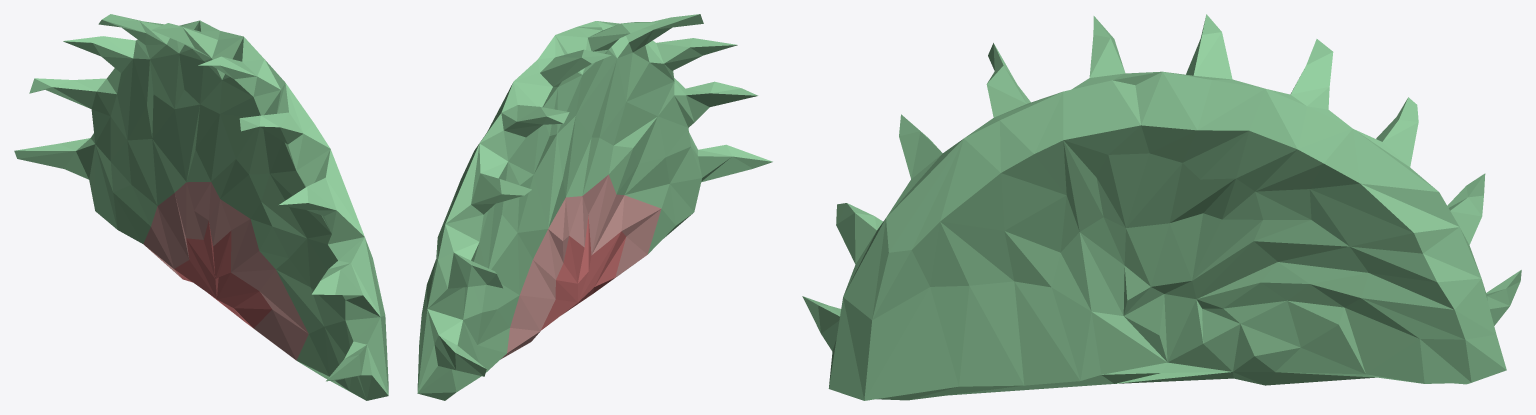
Rendered from stm_env_VeniceFlyTrap1.fbx.
3 renders of one model, left to right at view 1: azimuth 30°, elevation 25°; view 2: azimuth 150°, elevation 25°; view 3: azimuth 270°, elevation 25°, orthographic. The views are drawn at different scales.
Parts seen in each view (by area): view 1: stm_env_VFT_Mouthpiece_001; view 2: stm_env_VFT_Mouthpiece_001; view 3: stm_env_VFT_Mouthpiece_001.
Part boxes in pixels (x1,y1,x2,y2): stm_env_VFT_Mouthpiece_001: [14, 14, 388, 400]; stm_env_VFT_Mouthpiece_001: [417, 14, 772, 400]; stm_env_VFT_Mouthpiece_001: [802, 14, 1521, 400].
Size of the model in its own units: 72.27 by 191 by 363.
